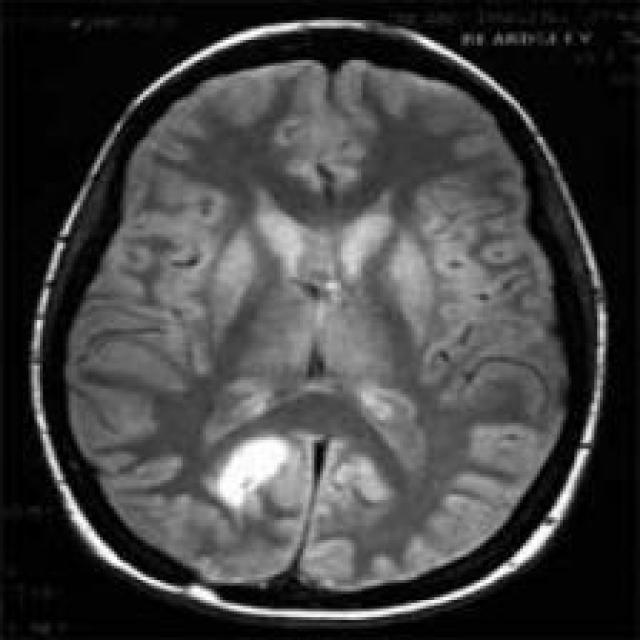Tumor: (212, 431, 292, 506)
